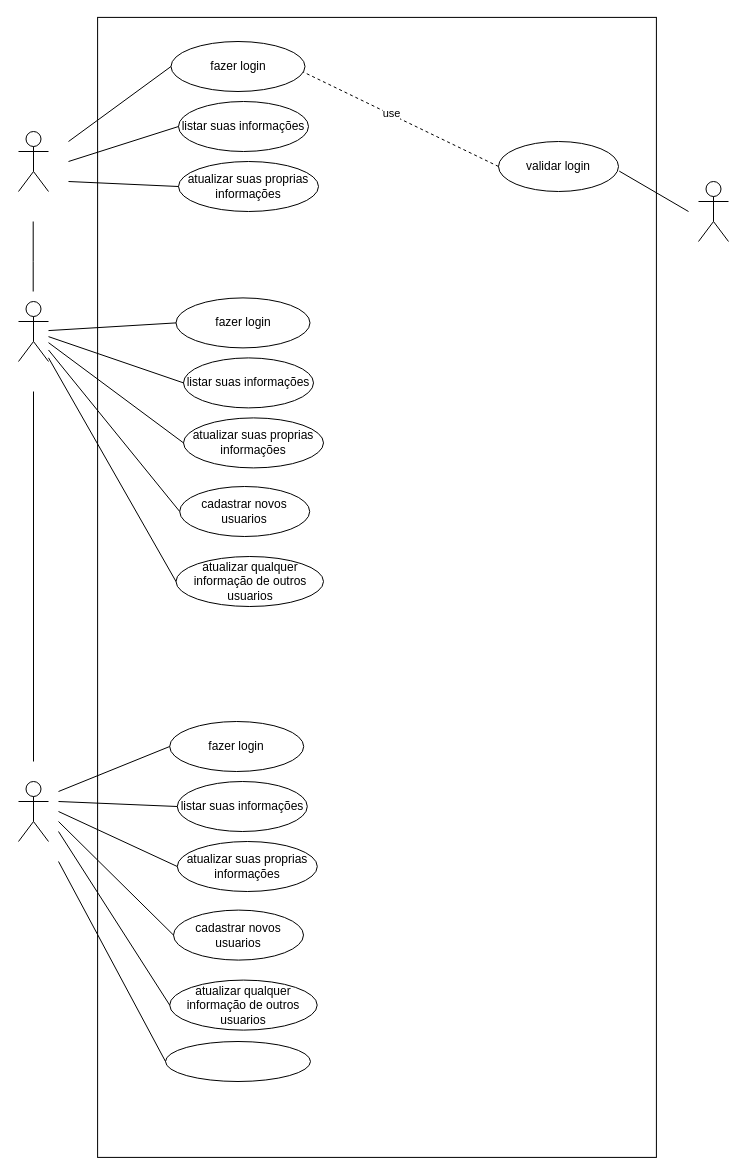
The diagram is 751 pixels wide and 1175 high, and some of its shapes have lost their labels. Here are the shapes that lost their labels. From the top down, the box of each, then its label:
(18, 130, 48, 192): geral
(698, 180, 728, 242): sistema
(18, 300, 48, 362): admin
(18, 780, 48, 842): root
(164, 1040, 310, 1082): excluir usuarios
